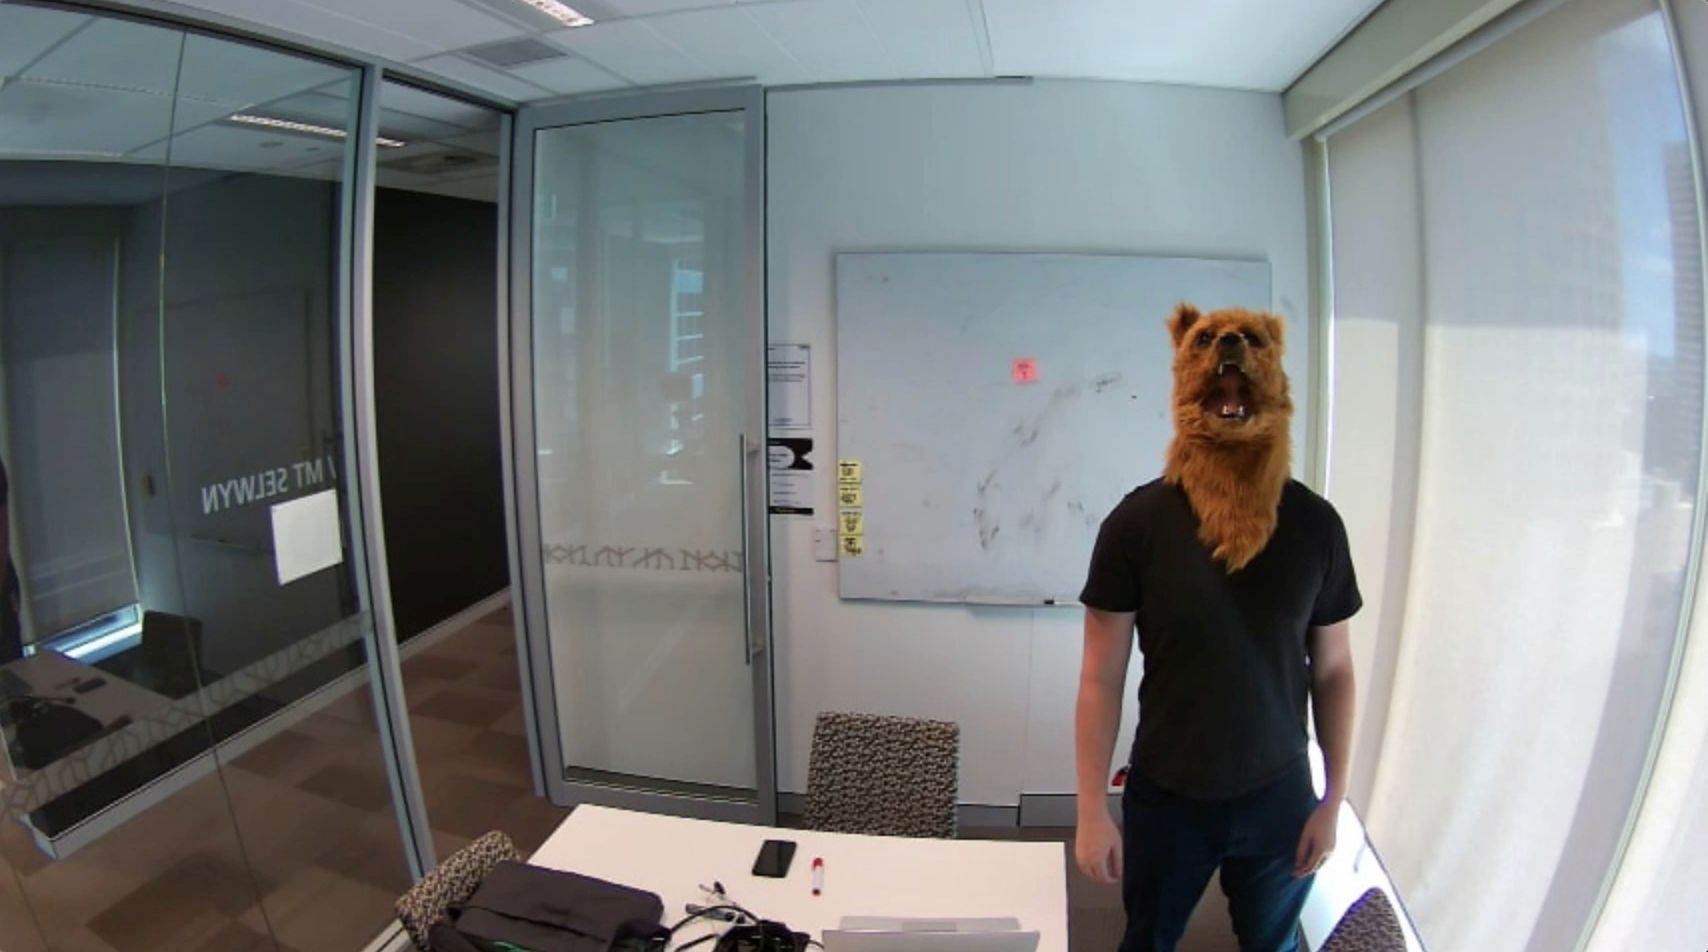Bear: (1162, 295, 1298, 472)
